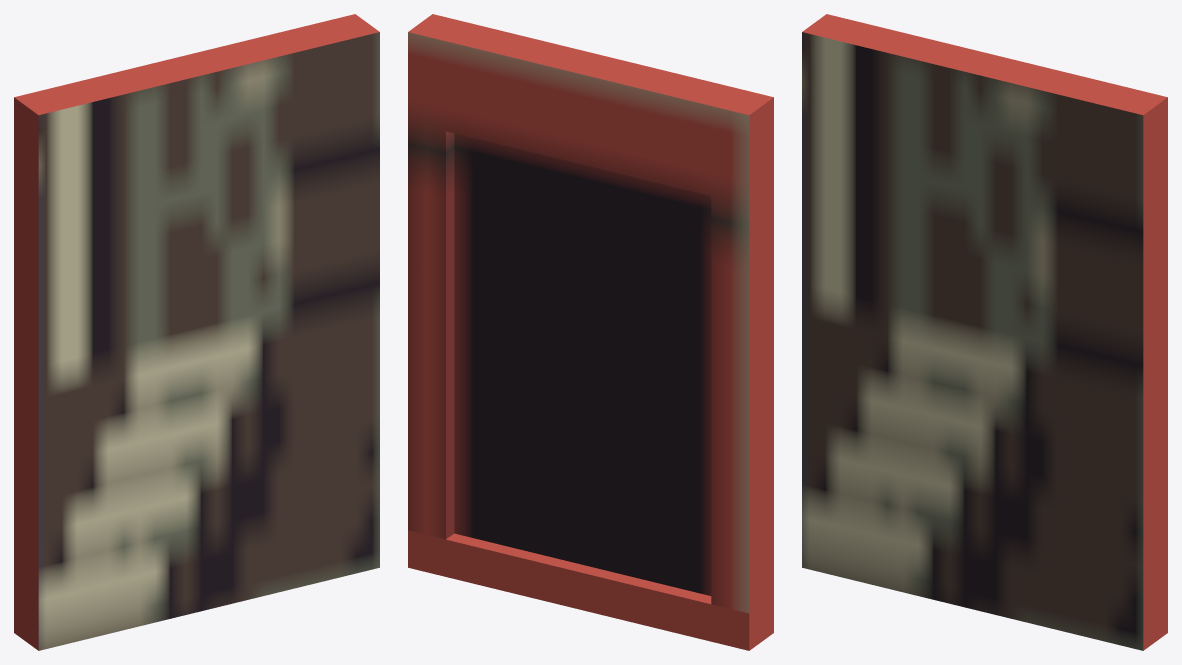
File: casa3_finestra.fbx
The picture shows the model from 3 angles, left to right: view 1: azimuth 30°, elevation 25°; view 2: azimuth 150°, elevation 25°; view 3: azimuth 330°, elevation 25°; orthographic projection.
Visible parts, largest first — view 1: Cube; view 2: Cube; view 3: Cube.
Boxes of the visible parts, left/top/right/bottom form: Cube: left=14, top=14, right=379, bottom=650; Cube: left=408, top=14, right=773, bottom=650; Cube: left=802, top=14, right=1167, bottom=650.
Bounding box in the file's own units: 200 × 300 × 25.
